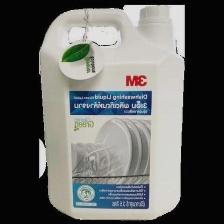cleaning_solution: (36, 2, 188, 223)
